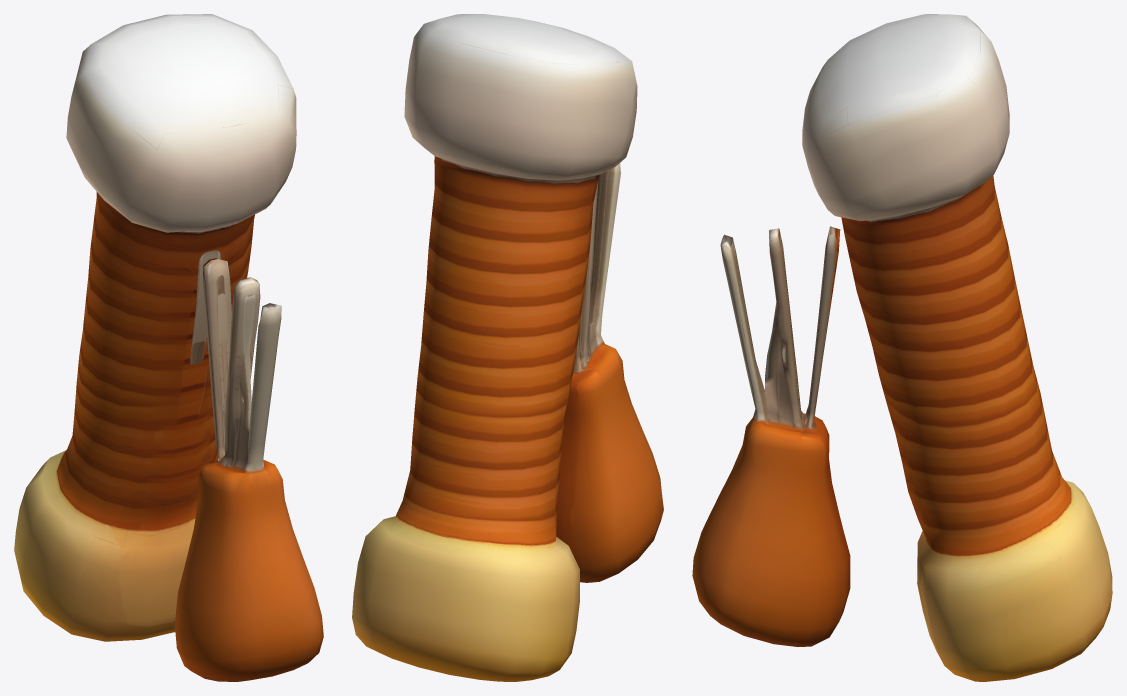
File: Instrumento.fbx
The picture shows the model from 3 angles, left to right: view 1: azimuth 30°, elevation 25°; view 2: azimuth 150°, elevation 25°; view 3: azimuth 270°, elevation 25°; orthographic projection.
Visible parts, largest first — view 1: Retopo_model; view 2: Retopo_model; view 3: Retopo_model.
Boxes of the visible parts, x1,y1,x2,y2 form: Retopo_model: [14, 14, 323, 681]; Retopo_model: [352, 14, 663, 681]; Retopo_model: [692, 14, 1112, 681].
Bounding box in the file's own units: 61.06 × 189 × 116.
Materials: 1 (1 with a texture image).
